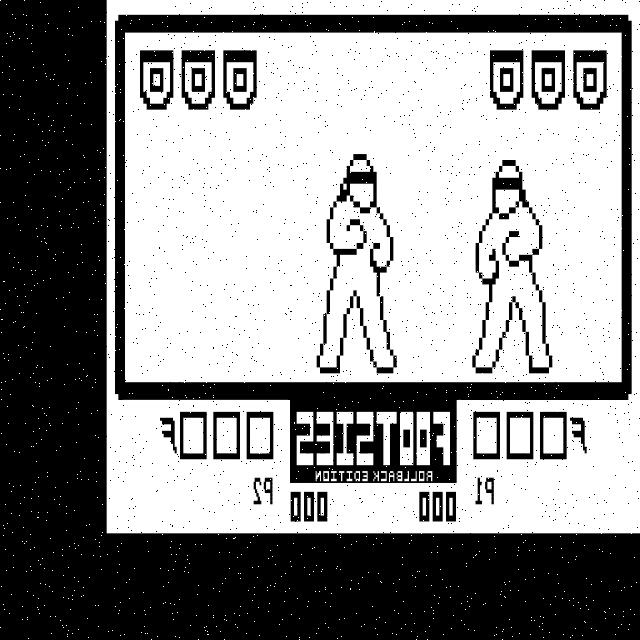Idle: (463, 148, 566, 378), (316, 150, 399, 376)
